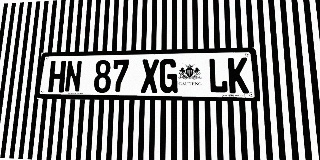7: (111, 59, 129, 93)
8: (93, 60, 112, 93)
G: (159, 59, 177, 93)
H: (48, 61, 66, 92)
K: (228, 57, 249, 93)
L: (208, 58, 228, 93)
N: (64, 60, 82, 92)
X: (141, 59, 159, 93)
